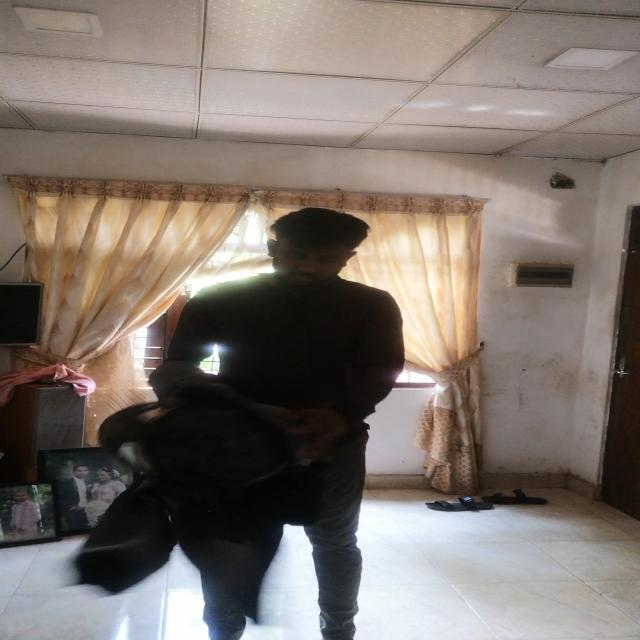Person: (163, 204, 403, 640)
